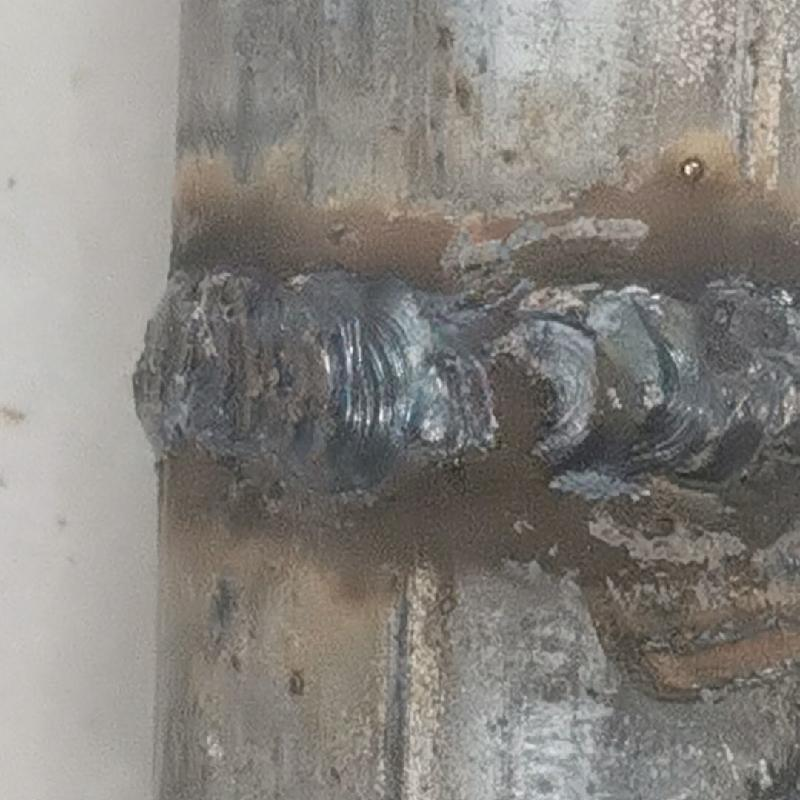good: (118, 251, 799, 489)
